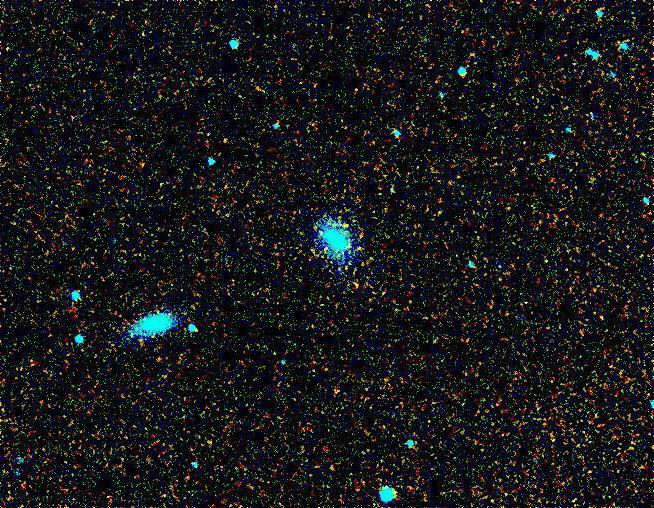star: (144, 344, 174, 374)
